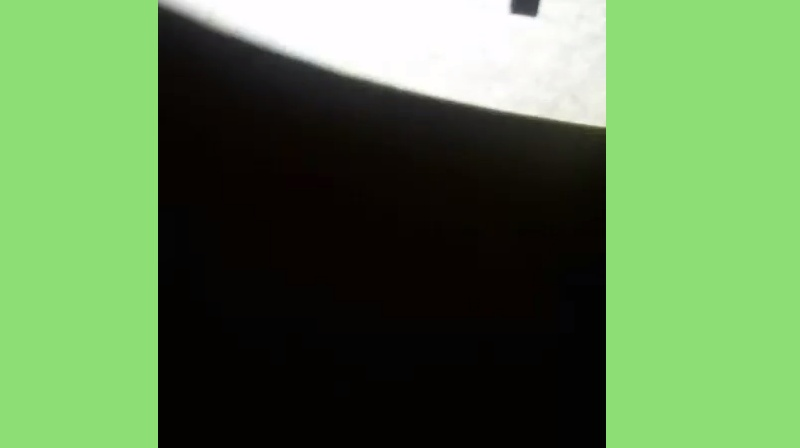O002: (386, 0, 557, 21)
